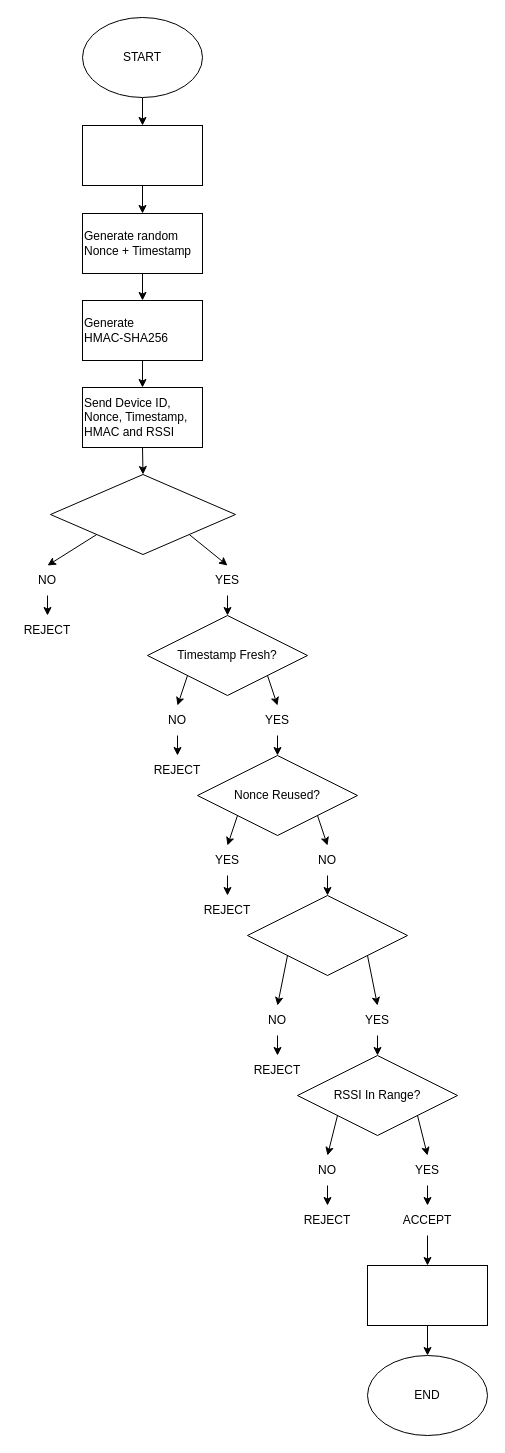
The diagram is 505 pixels wide and 1453 high, and some of its shapes have lost their labels. Here are the shapes that lost their labels. From the top down, the box of each, then its label:
(82, 124, 202, 186): IoT Device Reqests Authentication
(50, 474, 236, 554): Device Registered?
(246, 894, 408, 976): HMAC Valid?
(366, 1264, 488, 1326): Record Results and Metrics
